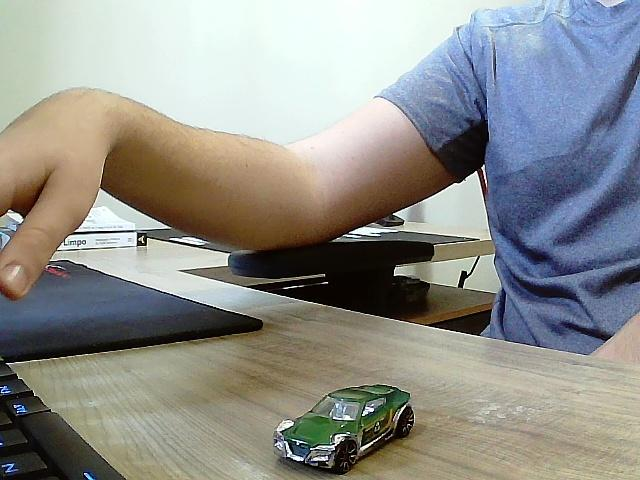Carro: (274, 385, 415, 475)
